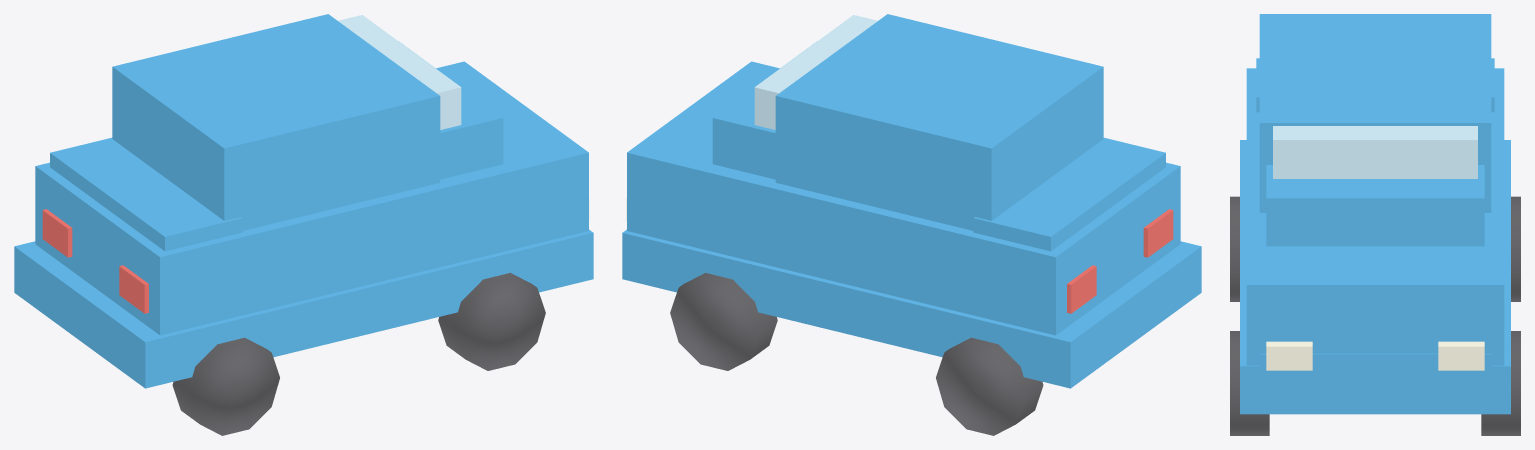
Rendered from car.glb.
3 views of the same model, side by side, from view 1: azimuth 30°, elevation 25°; view 2: azimuth 150°, elevation 25°; view 3: azimuth 270°, elevation 25° (orthographic). The views are drawn at different scales.
Parts seen in each view (by area): view 1: car; view 2: car; view 3: car.
Boxes of the visible parts, x1,y1,x2,y2 form: car: (14, 14, 593, 435); car: (622, 14, 1201, 435); car: (1230, 14, 1520, 435).
Bounding box in the file's own units: 1.65 × 0.9422 × 0.88.
